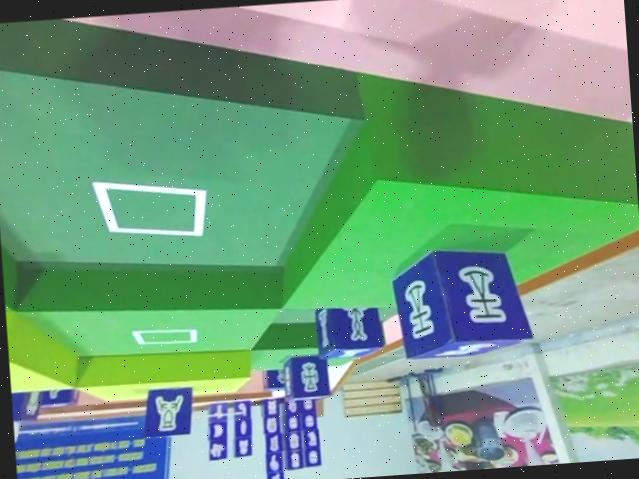R2 Real Blue: (393, 239, 536, 358), (314, 298, 387, 357), (139, 385, 193, 438), (277, 351, 329, 399), (10, 387, 38, 421)
